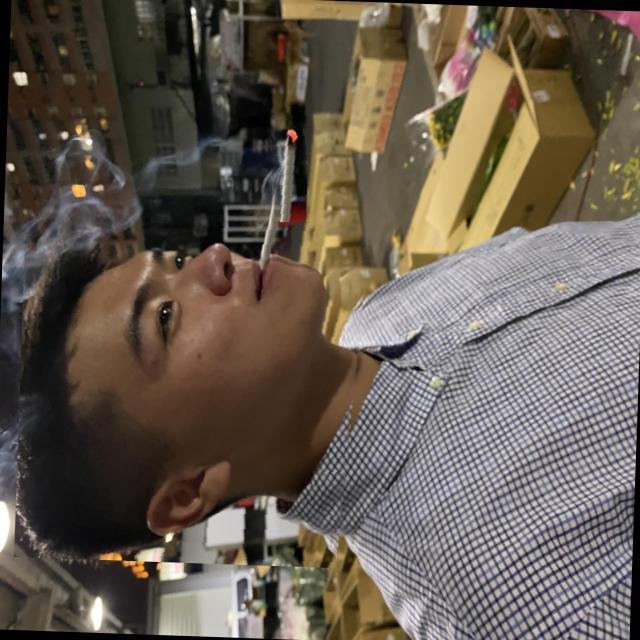cigarette: (262, 111, 310, 282)
